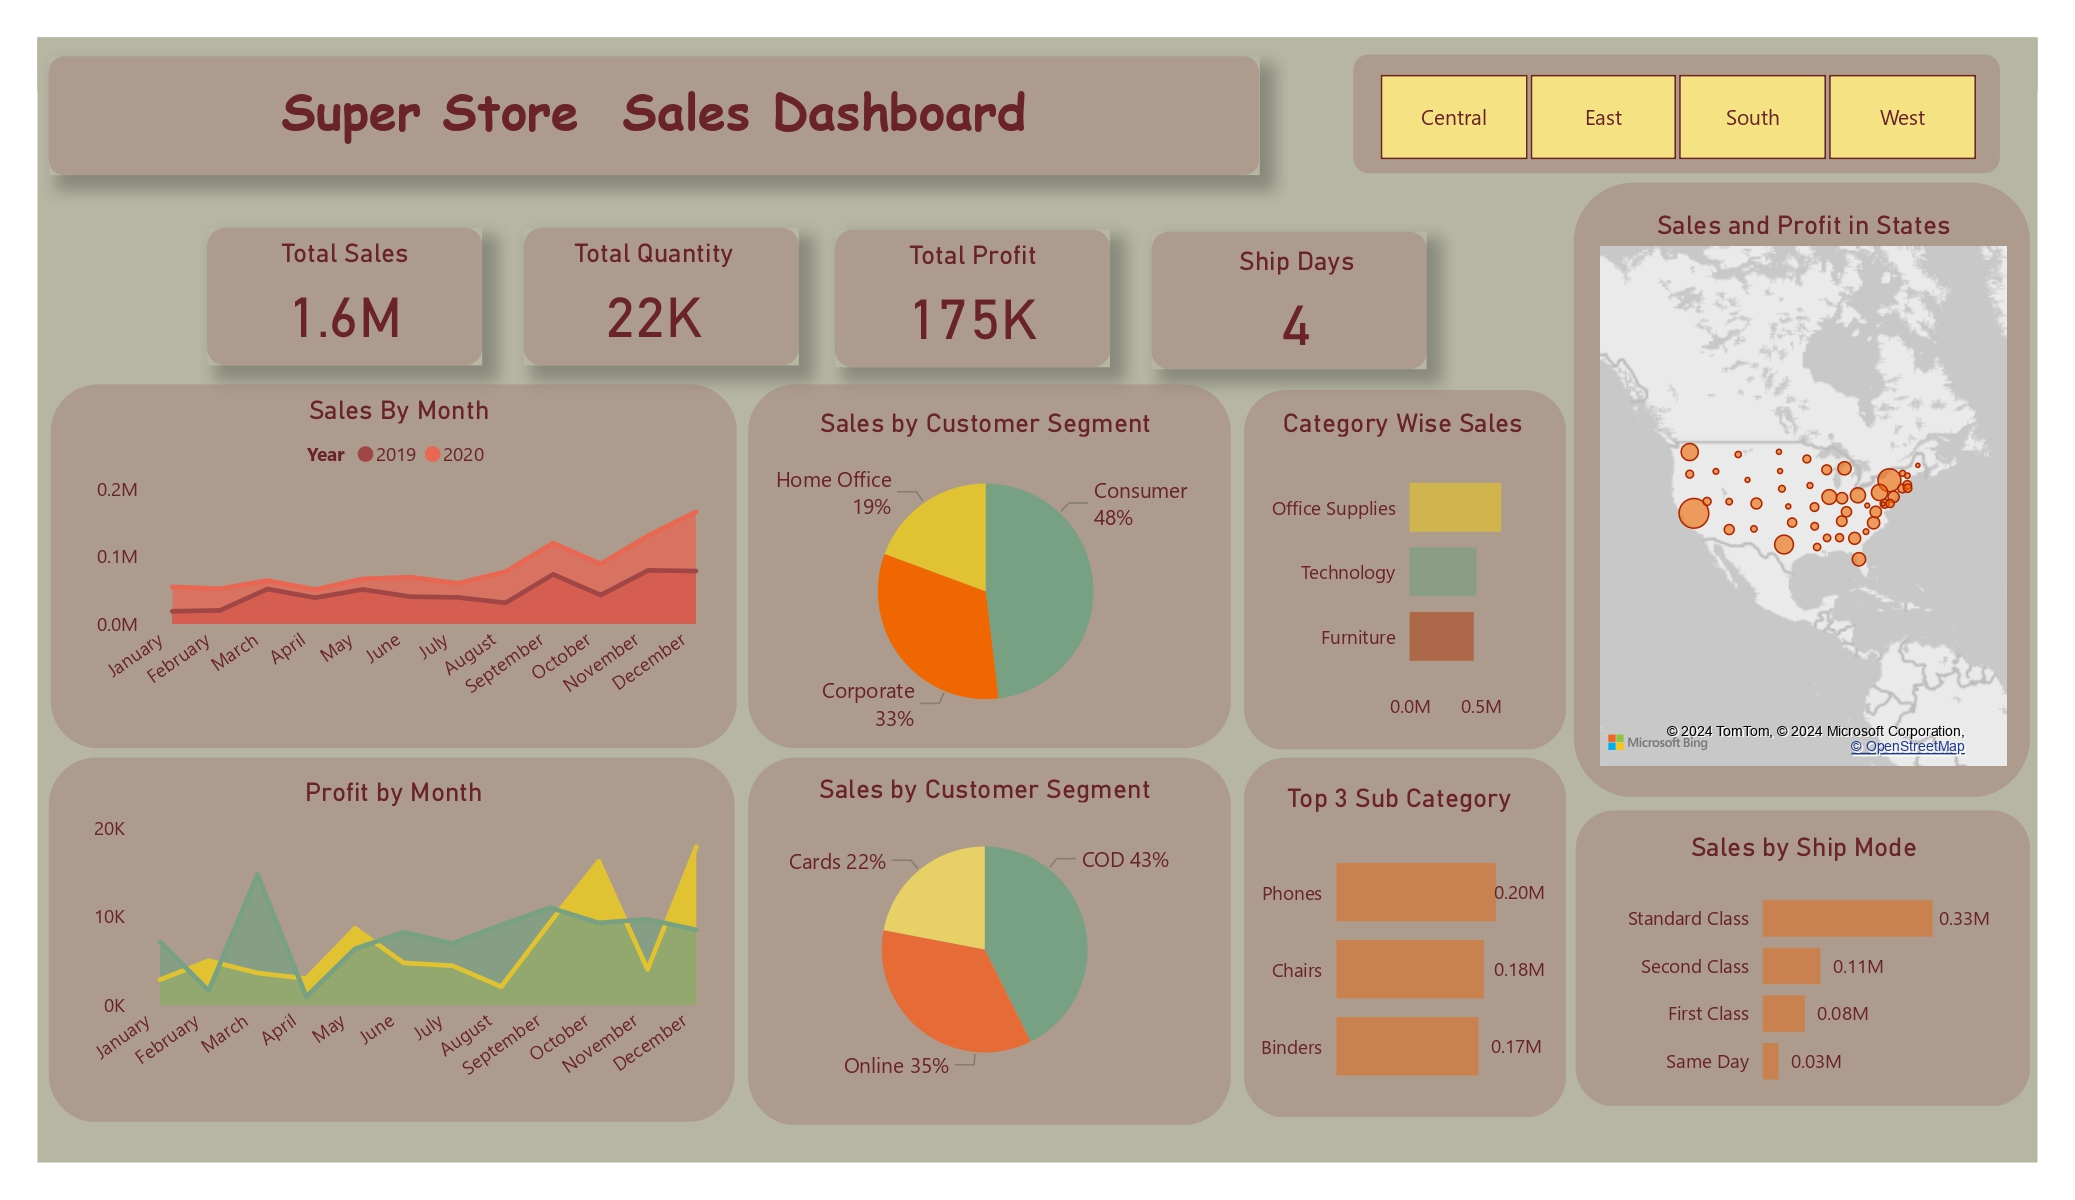

The page's visual inventory and layout, read from the dashboard file:
{"tool":"powerbi","page":{"name":"Page 1","canvas":[1280,720],"ordinal":0},"visuals":[{"type":"shape","box":[713.2,124.3,176.1,88.1],"z":0},{"type":"shape","box":[7.2,12.1,774.5,76],"z":1000},{"type":"shape","box":[510.9,123.1,176.1,88.1],"z":2000},{"type":"shape","box":[311.5,121.9,176.1,88.1],"z":3000},{"type":"shape","box":[108.8,121.9,176.1,88.1],"z":4000},{"type":"shape","box":[842.3,10.9,413.8,76],"z":5000},{"type":"shape","box":[772.1,225.6,206.3,230.4],"z":6000},{"type":"shape","box":[454.8,222,308.8,232.8],"z":7000},{"type":"shape","box":[454.8,460.9,308.8,235.3],"z":8000},{"type":"shape","box":[983.2,92.9,292,393.3],"z":9000},{"type":"shape","box":[7.8,460.7,438.9,233.3],"z":10000},{"type":"shape","box":[772.1,460.9,206.3,230.4],"z":11000},{"type":"barChart","title":"Category Wise Sales","fields":{"Category":["SuperStore_Sales_Dataset.Category"],"Y":["Sum(SuperStore_Sales_Dataset.Sales)"]},"box":[778.2,236.5,191.8,209.9],"z":12000},{"type":"barChart","title":"Top 3 Sub Category ","fields":{"Category":["SuperStore_Sales_Dataset.Sub-Category"],"Y":["Sum(SuperStore_Sales_Dataset.Sales)"]},"box":[773.3,476.5,196.6,214.7],"z":13000},{"type":"shape","box":[8.4,222,439.1,232.8],"z":14000},{"type":"shape","box":[984.5,494.6,290.8,189.4],"z":15000},{"type":"barChart","title":"Sales by Ship Mode","fields":{"Y":["Sum(SuperStore_Sales_Dataset.Sales)"],"Category":["SuperStore_Sales_Dataset.Ship Mode"]},"box":[1006.2,508.1,248.5,177.3],"z":16000},{"type":"areaChart","title":"Sales By Month","fields":{"Y":["Sum(SuperStore_Sales_Dataset.Sales)"],"Category":["SuperStore_Sales_Dataset.Order Date.Variation.Date Hierarchy.Month","SuperStore_Sales_Dataset.Order Date.Variation.Date Hierarchy.Day"],"Series":["SuperStore_Sales_Dataset.Order Date.Variation.Date Hierarchy.Year"]},"box":[24.4,228.1,414.4,214.4],"z":17000},{"type":"areaChart","title":" Profit by  Month","fields":{"Category":["SuperStore_Sales_Dataset.Order Date.Variation.Date Hierarchy.Month","SuperStore_Sales_Dataset.Order Date.Variation.Date Hierarchy.Day"],"Series":["SuperStore_Sales_Dataset.Order Date.Variation.Date Hierarchy.Year"],"Y":["Sum(SuperStore_Sales_Dataset.Profit)"]},"box":[16.7,472.9,422.2,214.4],"z":18000},{"type":"map","title":"Sales and Profit in States","fields":{"Category":["SuperStore_Sales_Dataset.State"],"Size":["Sum(SuperStore_Sales_Dataset.Sales)"]},"box":[995.3,109.8,270.2,360.7],"z":19000},{"type":"pieChart","title":"Sales by Customer Segment","fields":{"Y":["Sum(SuperStore_Sales_Dataset.Sales)"],"Category":["SuperStore_Sales_Dataset.Segment"]},"box":[466.9,236.5,279.9,217.2],"z":20000},{"type":"pieChart","title":"Sales by Customer Segment","fields":{"Y":["Sum(SuperStore_Sales_Dataset.Sales)"],"Category":["SuperStore_Sales_Dataset.Payment Mode"]},"box":[469.3,470.5,273.9,207.5],"z":21000},{"type":"slicer","fields":{"Values":["SuperStore_Sales_Dataset.Region"]},"box":[833.7,16.9,430.7,67.6],"z":22000},{"type":"textbox","box":[35,19.3,719,63.9],"z":23000},{"type":"card","title":"Total Sales","fields":{"Values":["Sum(SuperStore_Sales_Dataset.Sales)"]},"box":[117.2,127.9,159.3,77.2],"z":24000},{"type":"card","title":"Total Quantity","fields":{"Values":["Sum(SuperStore_Sales_Dataset.Quantity)"]},"box":[315.1,127.9,159.3,77.2],"z":25000},{"type":"card","title":"Total Profit","fields":{"Values":["Sum(SuperStore_Sales_Dataset.Profit)"]},"box":[519.4,129.1,159.3,77.2],"z":26000},{"type":"card","title":"Ship Days","fields":{"Values":["Avg(SuperStore_Sales_Dataset.AvgDelivery)"]},"box":[726.5,132.7,159.3,77.2],"z":27000}]}

Visuals, with their boxes in screenshot pixels (x1, y1, x2, y2):
shape: select_region(1152, 232, 1427, 369)
shape: select_region(49, 56, 1259, 175)
shape: select_region(836, 230, 1111, 368)
shape: select_region(524, 228, 799, 366)
shape: select_region(208, 228, 483, 366)
shape: select_region(1354, 55, 2000, 173)
shape: select_region(1244, 390, 1566, 750)
shape: select_region(748, 384, 1231, 748)
shape: select_region(748, 758, 1231, 1125)
shape: select_region(1574, 183, 2030, 797)
shape: select_region(50, 757, 735, 1122)
shape: select_region(1244, 758, 1566, 1118)
"Category Wise Sales" barChart: select_region(1253, 407, 1553, 735)
"Top 3 Sub Category " barChart: select_region(1246, 782, 1553, 1118)
shape: select_region(51, 384, 737, 748)
shape: select_region(1576, 810, 2030, 1106)
"Sales by Ship Mode" barChart: select_region(1610, 831, 1998, 1108)
"Sales By Month" areaChart: select_region(76, 394, 723, 729)
" Profit by  Month" areaChart: select_region(64, 776, 723, 1111)
"Sales and Profit in States" map: select_region(1593, 209, 2015, 773)
"Sales by Customer Segment" pieChart: select_region(767, 407, 1204, 746)
"Sales by Customer Segment" pieChart: select_region(771, 773, 1199, 1097)
slicer - SuperStore_Sales_Dataset.Region: select_region(1340, 64, 2013, 170)
textbox: select_region(92, 68, 1216, 168)
"Total Sales" card: select_region(221, 237, 470, 358)
"Total Quantity" card: select_region(530, 237, 779, 358)
"Total Profit" card: select_region(849, 239, 1098, 360)
"Ship Days" card: select_region(1173, 245, 1422, 365)
